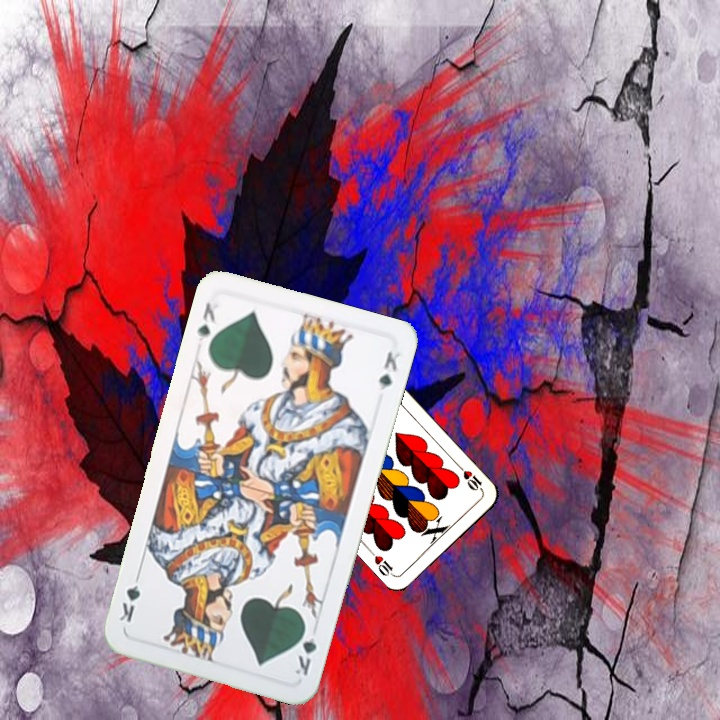GK: (291, 620, 320, 679), (193, 298, 220, 344)
H10: (454, 461, 485, 494)
